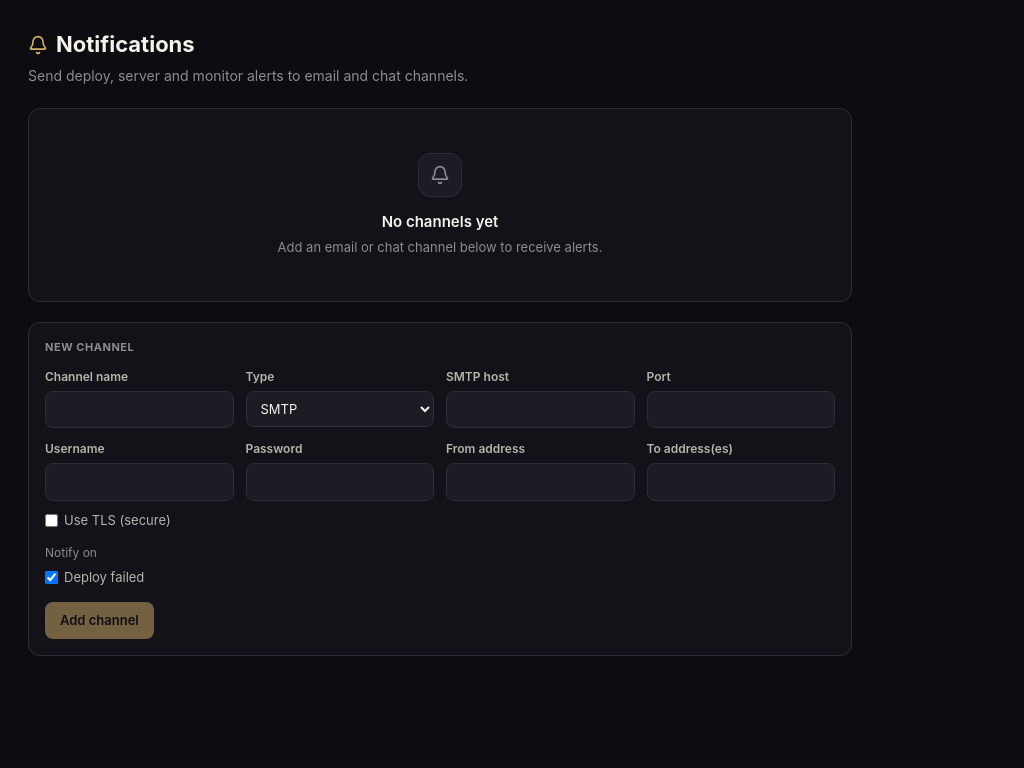
Test: NotificationsPage — event list from the backend single source › renders a newly-added provider's config fields when its type is selected (resend)
Expected: the text "Deploy failed" is shown, top-left (45, 568), bottom-right (144, 588)
Select "RESEND" in the dropdown showing "SMTP" at (340, 408), box top-left (246, 390), bottom-right (434, 426)
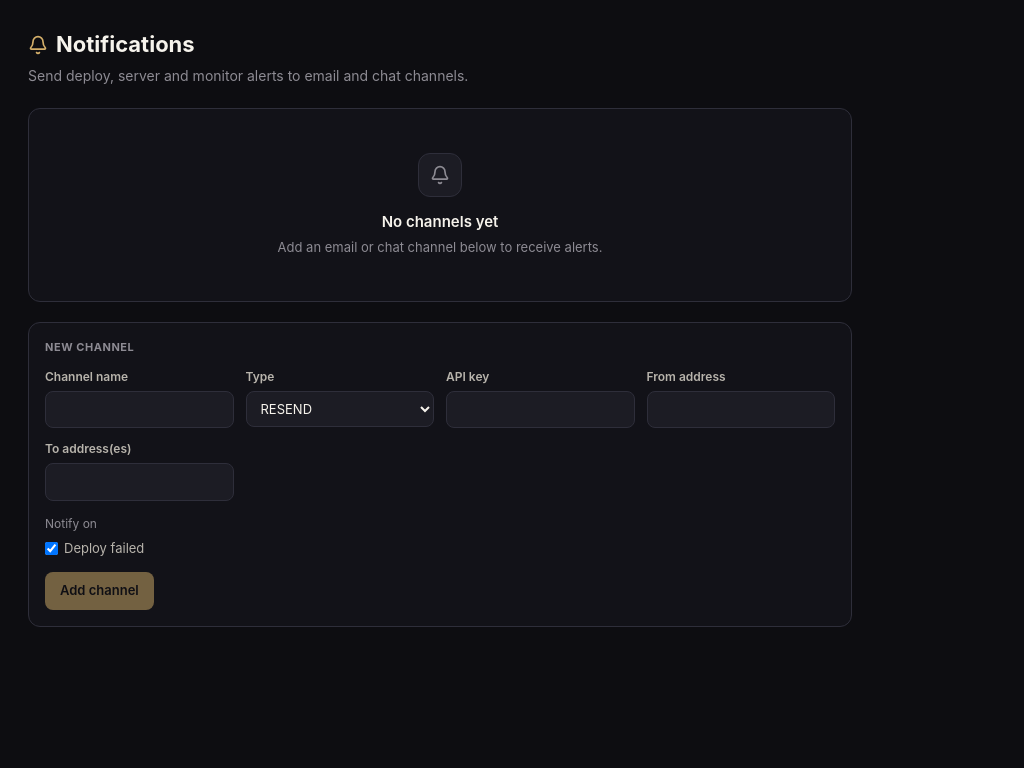
Expected: the text "From address" is shown, top-left (646, 368), bottom-right (726, 384)
Result: the text "API key" is shown at top-left (446, 368), bottom-right (489, 384)
